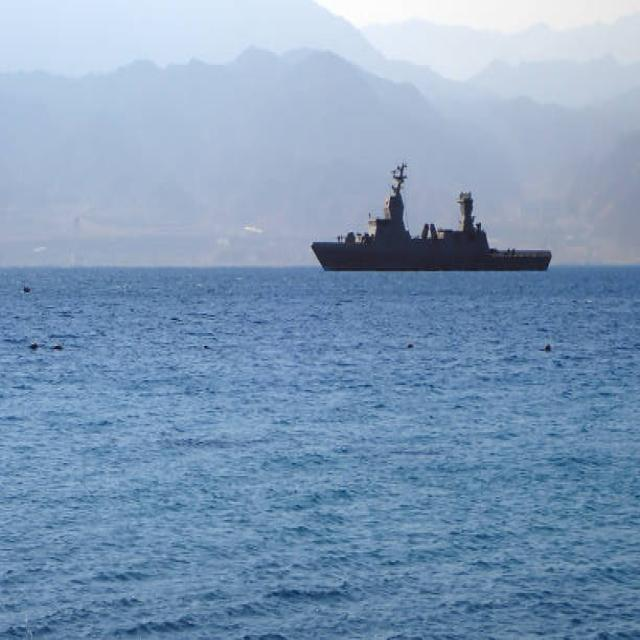Military: (310, 161, 552, 273)
